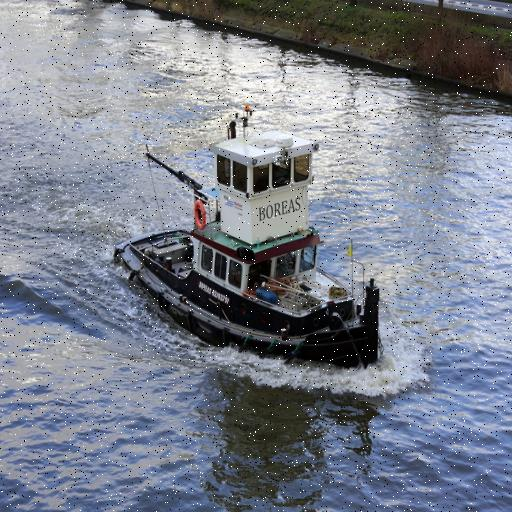tugboat: (111, 102, 385, 379)
